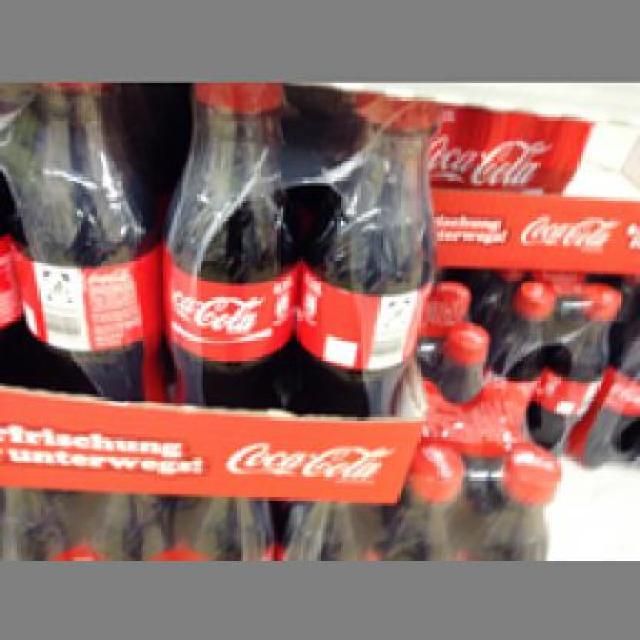Soda: (5, 82, 161, 398), (294, 86, 437, 412), (163, 77, 300, 403)
